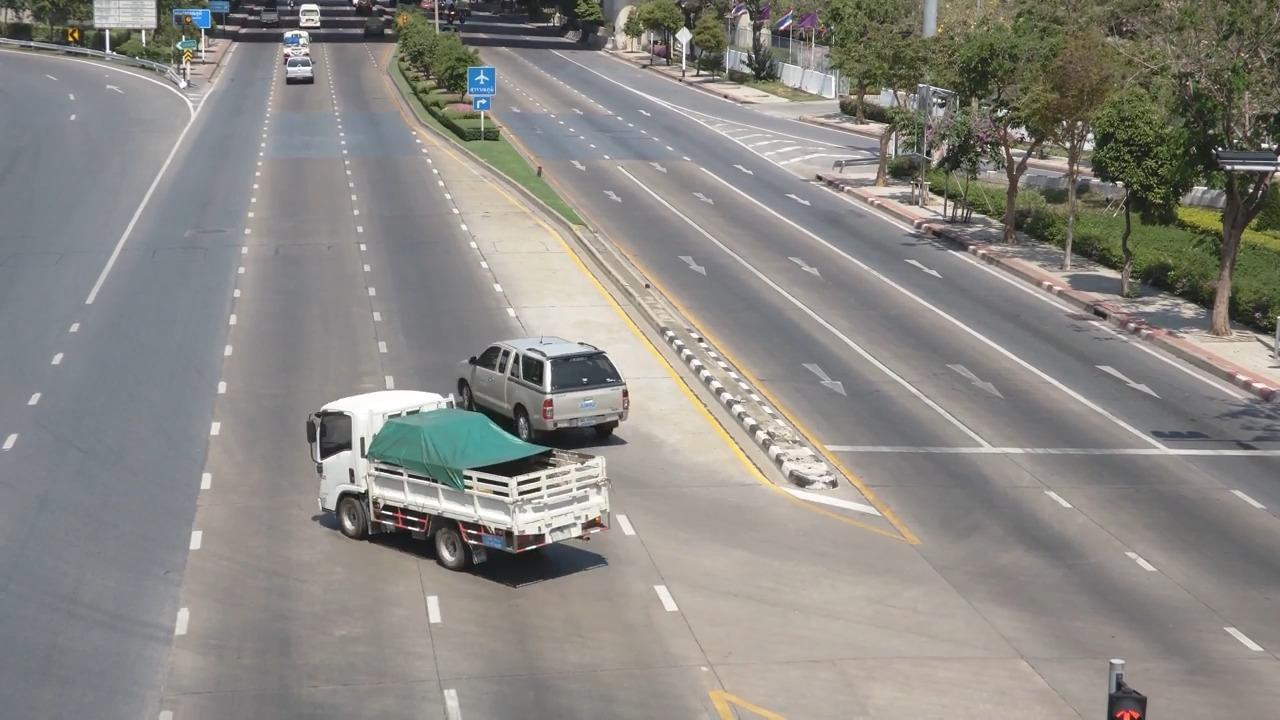CAR: (294, 384, 605, 587), (446, 326, 638, 437), (279, 62, 326, 98), (291, 0, 331, 41), (271, 32, 317, 67), (247, 7, 286, 41)
